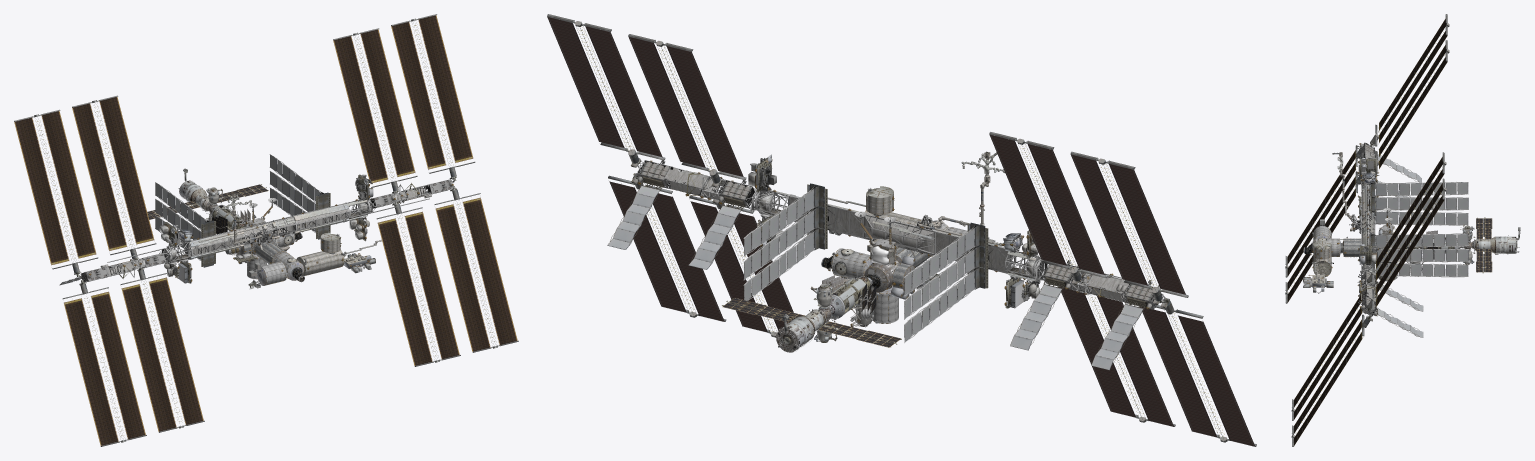
Rendered from iss_small.glb.
3 renders of one model, left to right at view 1: azimuth 30°, elevation 25°; view 2: azimuth 150°, elevation 25°; view 3: azimuth 270°, elevation 25°, orthographic. The views are drawn at different scales.
Parts seen in each view (by area): view 1: panel_01_p, 14 S0 Truss, 15 (MBS) Mobile Base System, 09 Destiny Space Laboratory, 06 Z1 Truss, 02 Unity Node 1, OCO3, 05 Zvezda (SM) Service Module, 39 Rassvet (MRM-1) Mini Research Module, 25 (ESP) External Stowage Platform 3; view 2: panel_01_p, 14 S0 Truss, 15 (MBS) Mobile Base System, 06 Z1 Truss, 02 Unity Node 1, OCO3, 05 Zvezda (SM) Service Module, 09 Destiny Space Laboratory, 39 Rassvet (MRM-1) Mini Research Module; view 3: panel_01_p, 14 S0 Truss, 15 (MBS) Mobile Base System, 05 Zvezda (SM) Service Module, 09 Destiny Space Laboratory, 06 Z1 Truss, OCO3, 02 Unity Node 1, 25 (ESP) External Stowage Platform 3, 39 Rassvet (MRM-1) Mini Research Module.
Boxes of the visible parts, x1,y1,x2,y2 form: panel_01_p: [14, 15, 517, 445]; 14 S0 Truss: [14, 14, 518, 446]; 15 (MBS) Mobile Base System: [107, 154, 430, 267]; 09 Destiny Space Laboratory: [229, 232, 344, 275]; 06 Z1 Truss: [62, 179, 454, 288]; 02 Unity Node 1: [179, 180, 345, 285]; OCO3: [81, 177, 453, 285]; 05 Zvezda (SM) Service Module: [164, 188, 375, 273]; 39 Rassvet (MRM-1) Mini Research Module: [229, 216, 340, 255]; 25 (ESP) External Stowage Platform 3: [165, 216, 370, 285]; panel_01_p: [547, 17, 1255, 446]; 14 S0 Truss: [547, 14, 1256, 446]; 15 (MBS) Mobile Base System: [714, 185, 1122, 342]; 06 Z1 Truss: [610, 160, 1164, 364]; 02 Unity Node 1: [777, 214, 967, 352]; OCO3: [637, 159, 1159, 352]; 05 Zvezda (SM) Service Module: [757, 151, 1036, 341]; 09 Destiny Space Laboratory: [865, 186, 928, 288]; 39 Rassvet (MRM-1) Mini Research Module: [850, 188, 935, 327]; panel_01_p: [1287, 19, 1520, 445]; 14 S0 Truss: [1285, 14, 1449, 446]; 15 (MBS) Mobile Base System: [1349, 151, 1468, 299]; 05 Zvezda (SM) Service Module: [1303, 152, 1474, 292]; 09 Destiny Space Laboratory: [1313, 238, 1375, 277]; 06 Z1 Truss: [1341, 142, 1419, 336]; OCO3: [1303, 143, 1515, 316]; 02 Unity Node 1: [1311, 226, 1516, 281]; 25 (ESP) External Stowage Platform 3: [1303, 158, 1379, 297]; 39 Rassvet (MRM-1) Mini Research Module: [1320, 210, 1422, 272].
Size of the model in its own units: 112 by 68.79 by 58.62.
27 materials, 21 textured.
